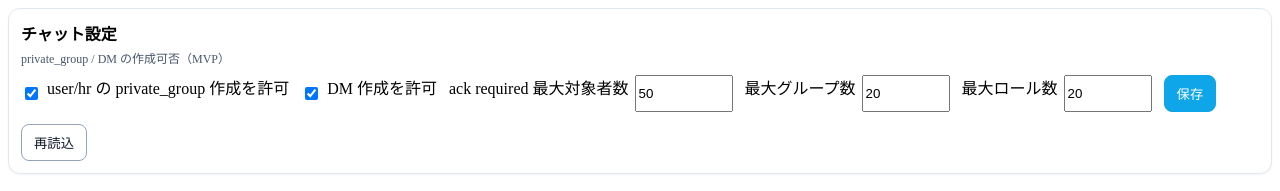
Test case: ChatSettingsCard › loads defaults on mount and applies fetched values on reload
The image size is (1280, 191).
Expected: the checkbox labelled "DM 作成を許可" is checked, [305, 78, 318, 109]
Expected: the number field labelled "ack required 最大対象者数" holds "50", [634, 75, 732, 112]
Step 1. Click the button "再読込" → [54, 142], box [21, 124, 87, 161]
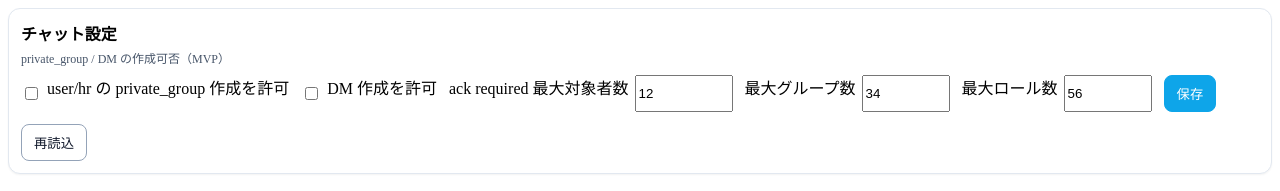
Expected: the checkbox labelled "user/hr の private_group 作成を許可" is not checked, [25, 78, 38, 109]
Expected: the checkbox labelled "DM 作成を許可" is not checked, [305, 78, 318, 109]
Expected: the number field labelled "ack required 最大対象者数" holds "12", [634, 75, 732, 112]
